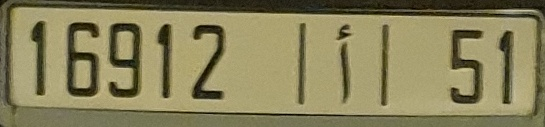1: (28, 18, 51, 97), (155, 23, 175, 100), (496, 29, 515, 108)
2: (188, 22, 228, 102)
5: (449, 26, 485, 106)
6: (64, 19, 100, 98)
9: (107, 21, 144, 100)
a: (332, 22, 355, 106)
